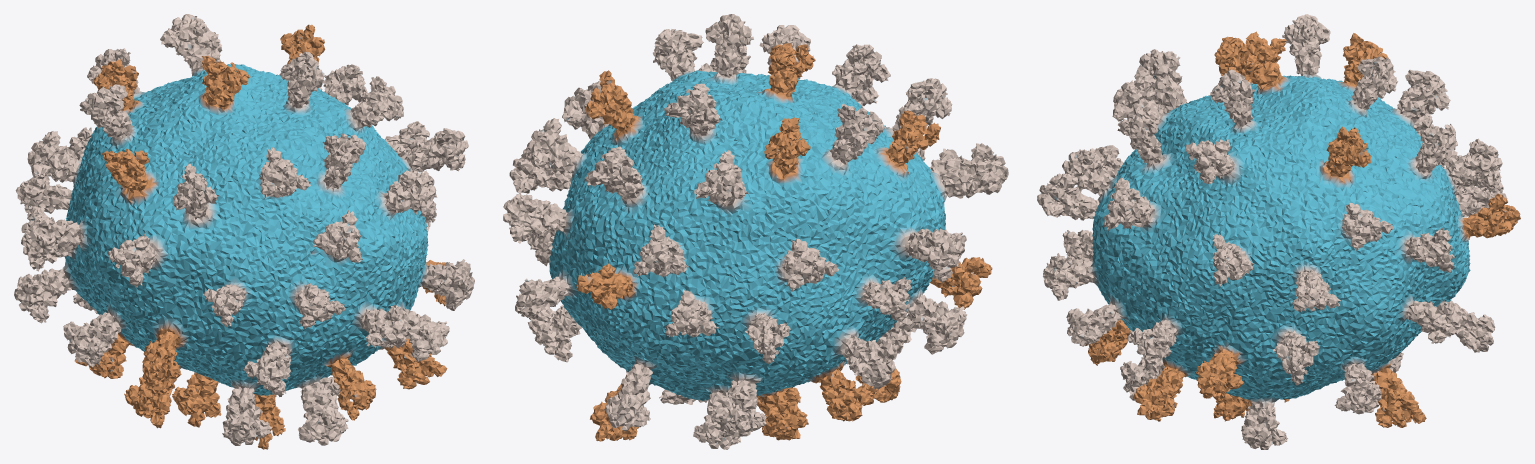
File: sars-cov-2-virion-nih3d.glb
3 renders of one model, left to right at view 1: azimuth 30°, elevation 25°; view 2: azimuth 150°, elevation 25°; view 3: azimuth 270°, elevation 25°, orthographic. The views are drawn at different scales.
Visible parts, largest first — view 1: SARSCOV2_Thick.ply; view 2: SARSCOV2_Thick.ply; view 3: SARSCOV2_Thick.ply.
Boxes of the visible parts, x1,y1,x2,y2 form: SARSCOV2_Thick.ply: (14,14,474,449); SARSCOV2_Thick.ply: (503,14,1008,449); SARSCOV2_Thick.ply: (1037,14,1520,449).
Size of the model in its own units: 105 by 90.34 by 107.
